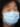with_mask: (2, 2, 20, 27)
